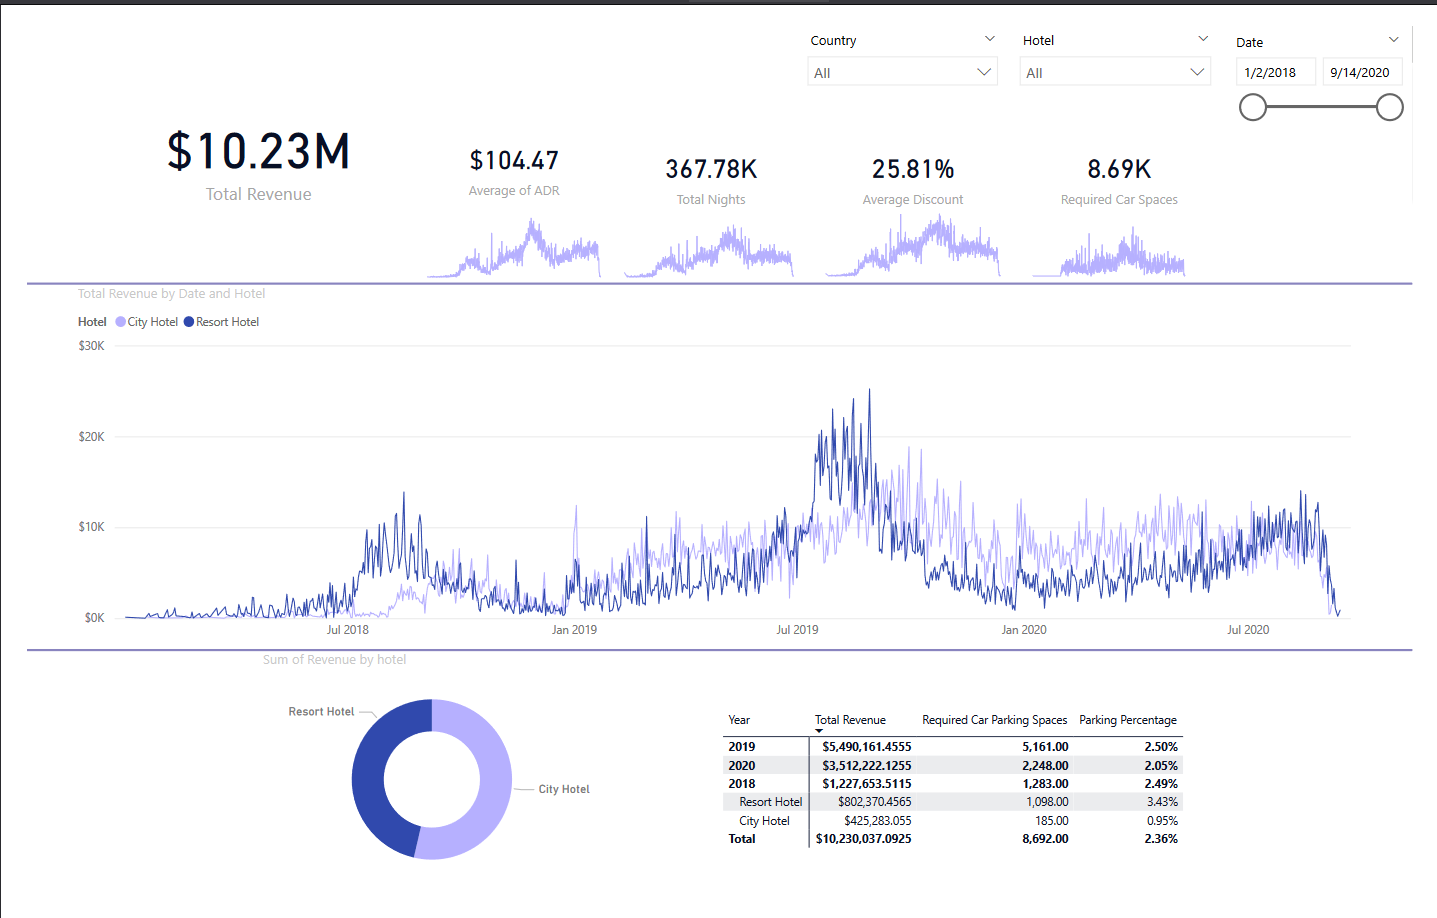

The dashboard page shown, as its layout file describes it:
{"tool":"powerbi","page":{"name":"Page 1","canvas":[1280,800],"ordinal":0},"visuals":[{"type":"shape","box":[0,222.1,1280,31.4],"z":0},{"type":"shape","box":[0,560.9,1280,31.4],"z":1000},{"type":"card","fields":{"Values":["Sum(Query1.Revenue)"]},"box":[78.7,9.8,270.6,220.4],"z":2000},{"type":"card","fields":{"Values":["Avg(Query1.adr)"]},"box":[355.2,68.9,189.9,124],"z":3000},{"type":"card","fields":{"Values":["Query1.Total Nights"]},"box":[537.3,69.9,189.9,137.8],"z":4000},{"type":"card","fields":{"Values":["Avg(Query1.Discount)"]},"box":[723.2,69.9,190.9,137.8],"z":5000},{"type":"lineChart","fields":{"Category":["Query1.reservation_status_date"],"Y":["Sum(Query1.Revenue)"],"Series":["Query1.hotel"]},"box":[42.3,238.1,1195.6,337.5],"z":6000},{"type":"slicer","fields":{"Values":["Query1.country"]},"box":[711.4,0,195.8,69.9],"z":7000},{"type":"slicer","fields":{"Values":["Query1.hotel"]},"box":[907.3,0,196.8,68.9],"z":8000},{"type":"lineChart","fields":{"Category":["Query1.reservation_status_date"],"Y":["Sum(Query1.adr)"]},"box":[355.2,156.5,189.9,81.7],"z":9000},{"type":"lineChart","fields":{"Category":["Query1.reservation_status_date"],"Y":["Query1.Total Nights"]},"box":[537.3,156.5,186,81.7],"z":10000},{"type":"lineChart","fields":{"Category":["Query1.reservation_status_date"],"Y":["Sum(Query1.Discount)"]},"box":[723.2,155.5,190.9,81.7],"z":11000},{"type":"card","fields":{"Values":["Sum(Query1.required_car_parking_spaces)"]},"box":[914.1,69.9,189.9,137.8],"z":12000},{"type":"lineChart","fields":{"Category":["Query1.reservation_status_date"],"Y":["Sum(Query1.required_car_parking_spaces)"]},"box":[914.1,155.5,171.2,81.7],"z":13000},{"type":"donutChart","fields":{"Y":["Sum(Query1.Revenue)"],"Category":["Query1.hotel"]},"box":[212.5,575.6,322.8,224.4],"z":14000},{"type":"pivotTable","fields":{"Rows":["Query1.reservation_status_date.Variation.Date Hierarchy.Year","Query1.hotel"],"Values":["Sum(Query1.Revenue)","Sum(Query1.required_car_parking_spaces)","Query1.Parking Percentage"]},"box":[637.6,626.8,538.3,139.7],"z":15000},{"type":"slicer","fields":{"Values":["Query1.reservation_status_date"]},"box":[1104.1,1,176.1,103.3],"z":16000}]}

Visuals, with their boxes in screenshot pixels (x1, y1, x2, y2), scaled from the page's 1280x800 canvas onto the 1437x918 screenshot:
shape: l=0, t=255, r=1436, b=291
shape: l=0, t=644, r=1436, b=680
card - Sum(Query1.Revenue): l=88, t=11, r=392, b=264
card - Avg(Query1.adr): l=399, t=79, r=612, b=221
card - Query1.Total Nights: l=603, t=80, r=816, b=238
card - Avg(Query1.Discount): l=812, t=80, r=1026, b=238
lineChart - Query1.reservation_status_date x Sum(Query1.Revenue): l=47, t=273, r=1390, b=661
slicer - Query1.country: l=799, t=0, r=1018, b=80
slicer - Query1.hotel: l=1019, t=0, r=1240, b=79
lineChart - Query1.reservation_status_date x Sum(Query1.adr): l=399, t=180, r=612, b=273
lineChart - Query1.reservation_status_date x Query1.Total Nights: l=603, t=180, r=812, b=273
lineChart - Query1.reservation_status_date x Sum(Query1.Discount): l=812, t=178, r=1026, b=272
card - Sum(Query1.required_car_parking_spaces): l=1026, t=80, r=1239, b=238
lineChart - Query1.reservation_status_date x Sum(Query1.required_car_parking_spaces): l=1026, t=178, r=1218, b=272
donutChart - Sum(Query1.Revenue) x Query1.hotel: l=239, t=661, r=601, b=917
pivotTable - Query1.reservation_status_date.Variation.Date Hierarchy.Year x Query1.hotel: l=716, t=719, r=1320, b=880
slicer - Query1.reservation_status_date: l=1240, t=1, r=1436, b=120
